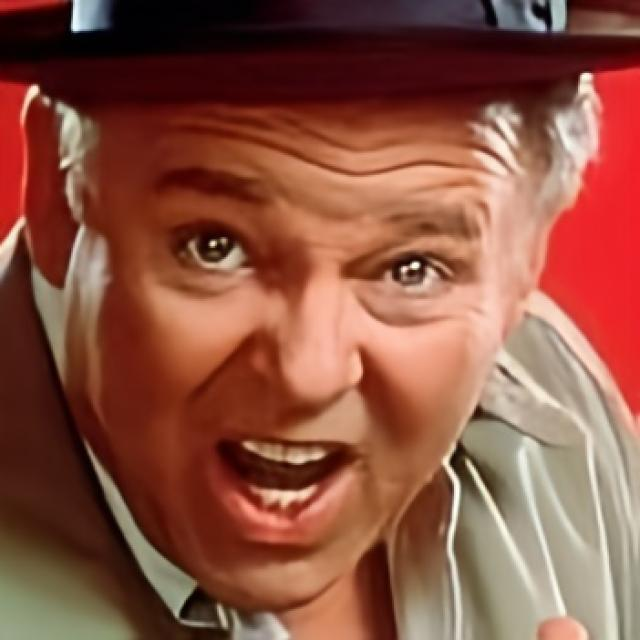surprise: (64, 25, 532, 608)
